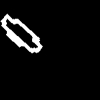chain: (1, 14, 41, 52)
